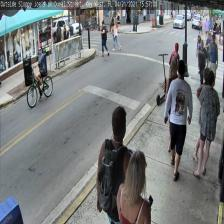person: (96, 105, 131, 224), (164, 60, 193, 181), (194, 70, 220, 177), (117, 150, 153, 224), (166, 60, 179, 162)
